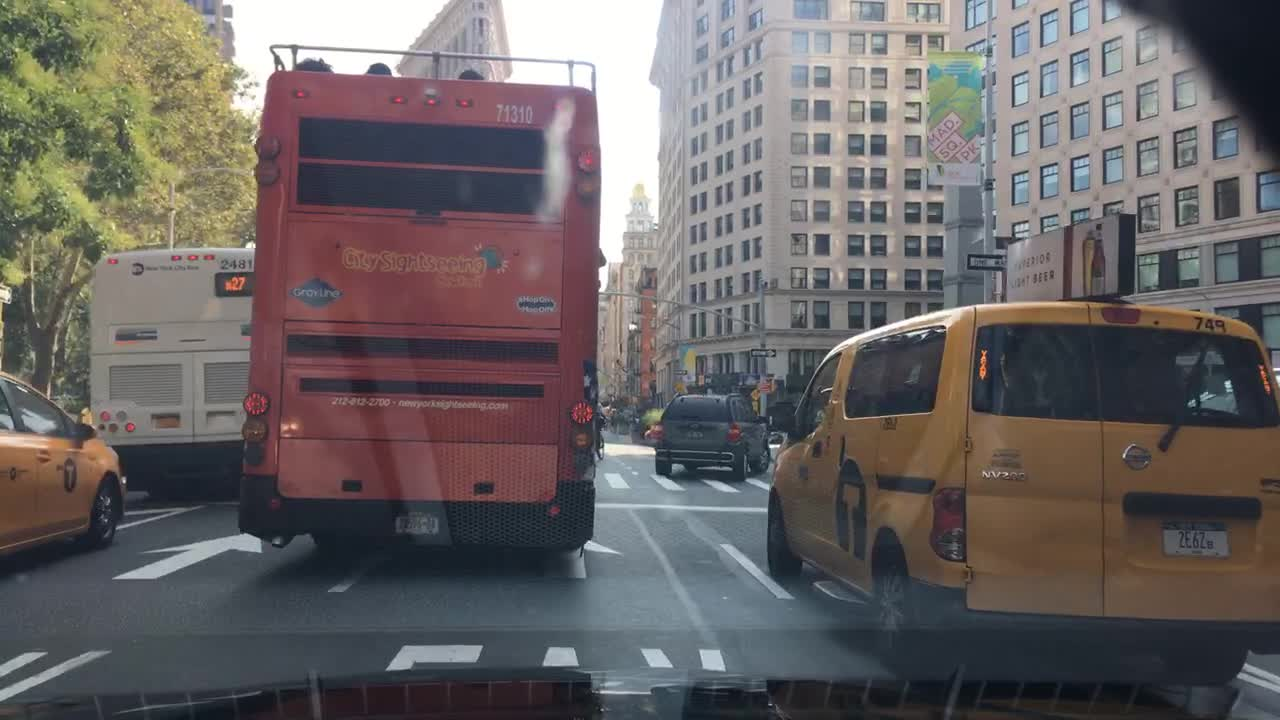bike: (590, 411, 607, 460)
bus: (238, 43, 607, 557), (87, 238, 256, 500)
car: (765, 299, 1278, 659), (0, 368, 129, 558), (652, 390, 773, 483)
rider: (592, 402, 608, 423)
traffic sign: (966, 252, 1011, 269), (748, 346, 778, 357), (0, 282, 13, 304), (748, 387, 762, 400), (756, 382, 773, 391), (672, 368, 688, 375)
